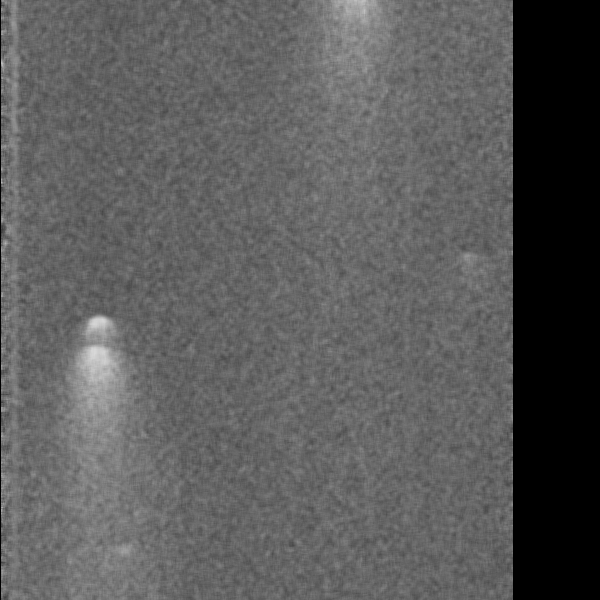spark: (58, 311, 133, 532), (71, 542, 145, 563), (460, 248, 474, 283)
